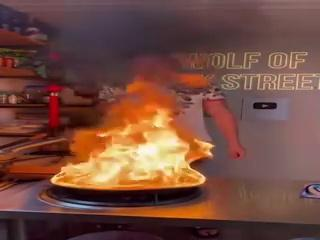Fire: (53, 73, 216, 190)
